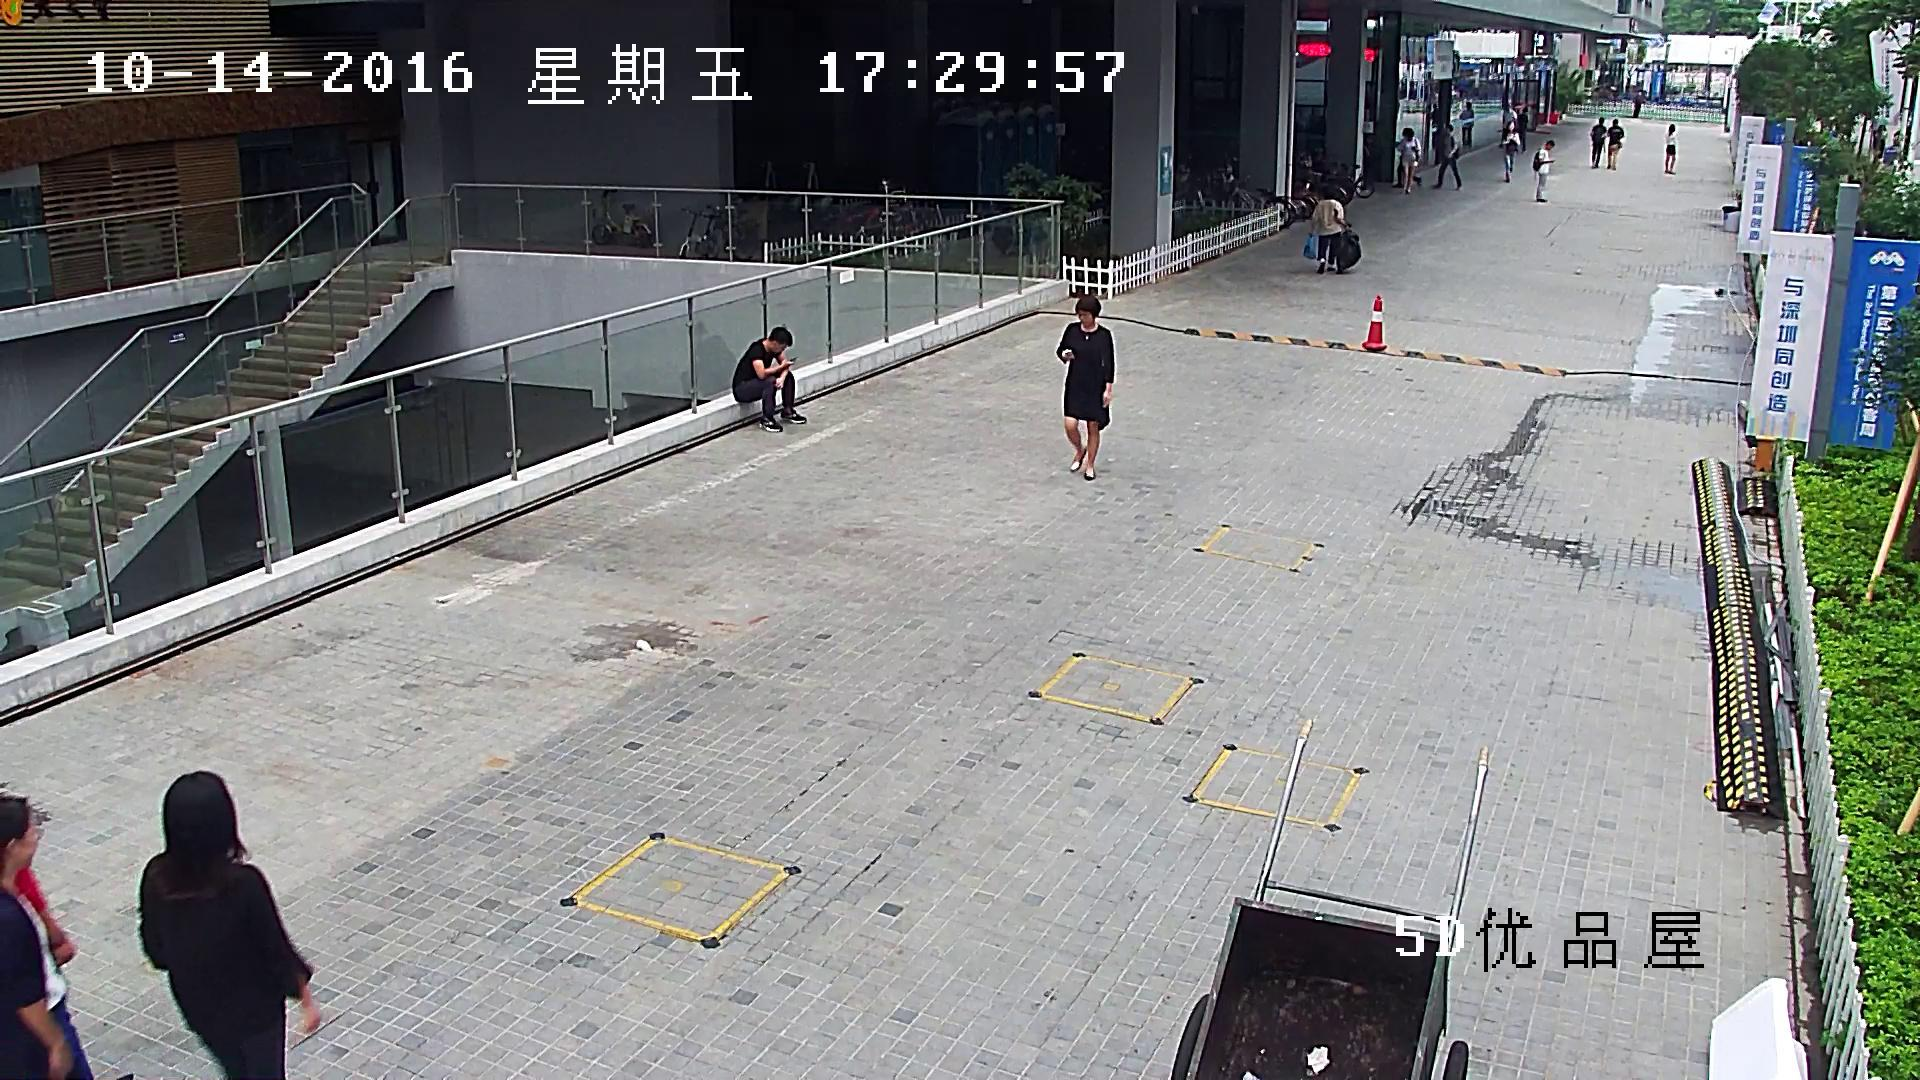person: (138, 770, 320, 1080), (0, 795, 91, 1078), (1056, 293, 1114, 481), (732, 327, 806, 431), (1302, 185, 1361, 275), (1302, 185, 1345, 274), (1432, 125, 1461, 190), (1397, 127, 1421, 194), (1532, 139, 1554, 202), (1501, 120, 1519, 183), (1607, 118, 1624, 170), (1589, 116, 1606, 168), (1499, 102, 1518, 148), (1459, 101, 1473, 147), (1664, 123, 1676, 173), (1517, 107, 1527, 152), (1431, 104, 1442, 127)
